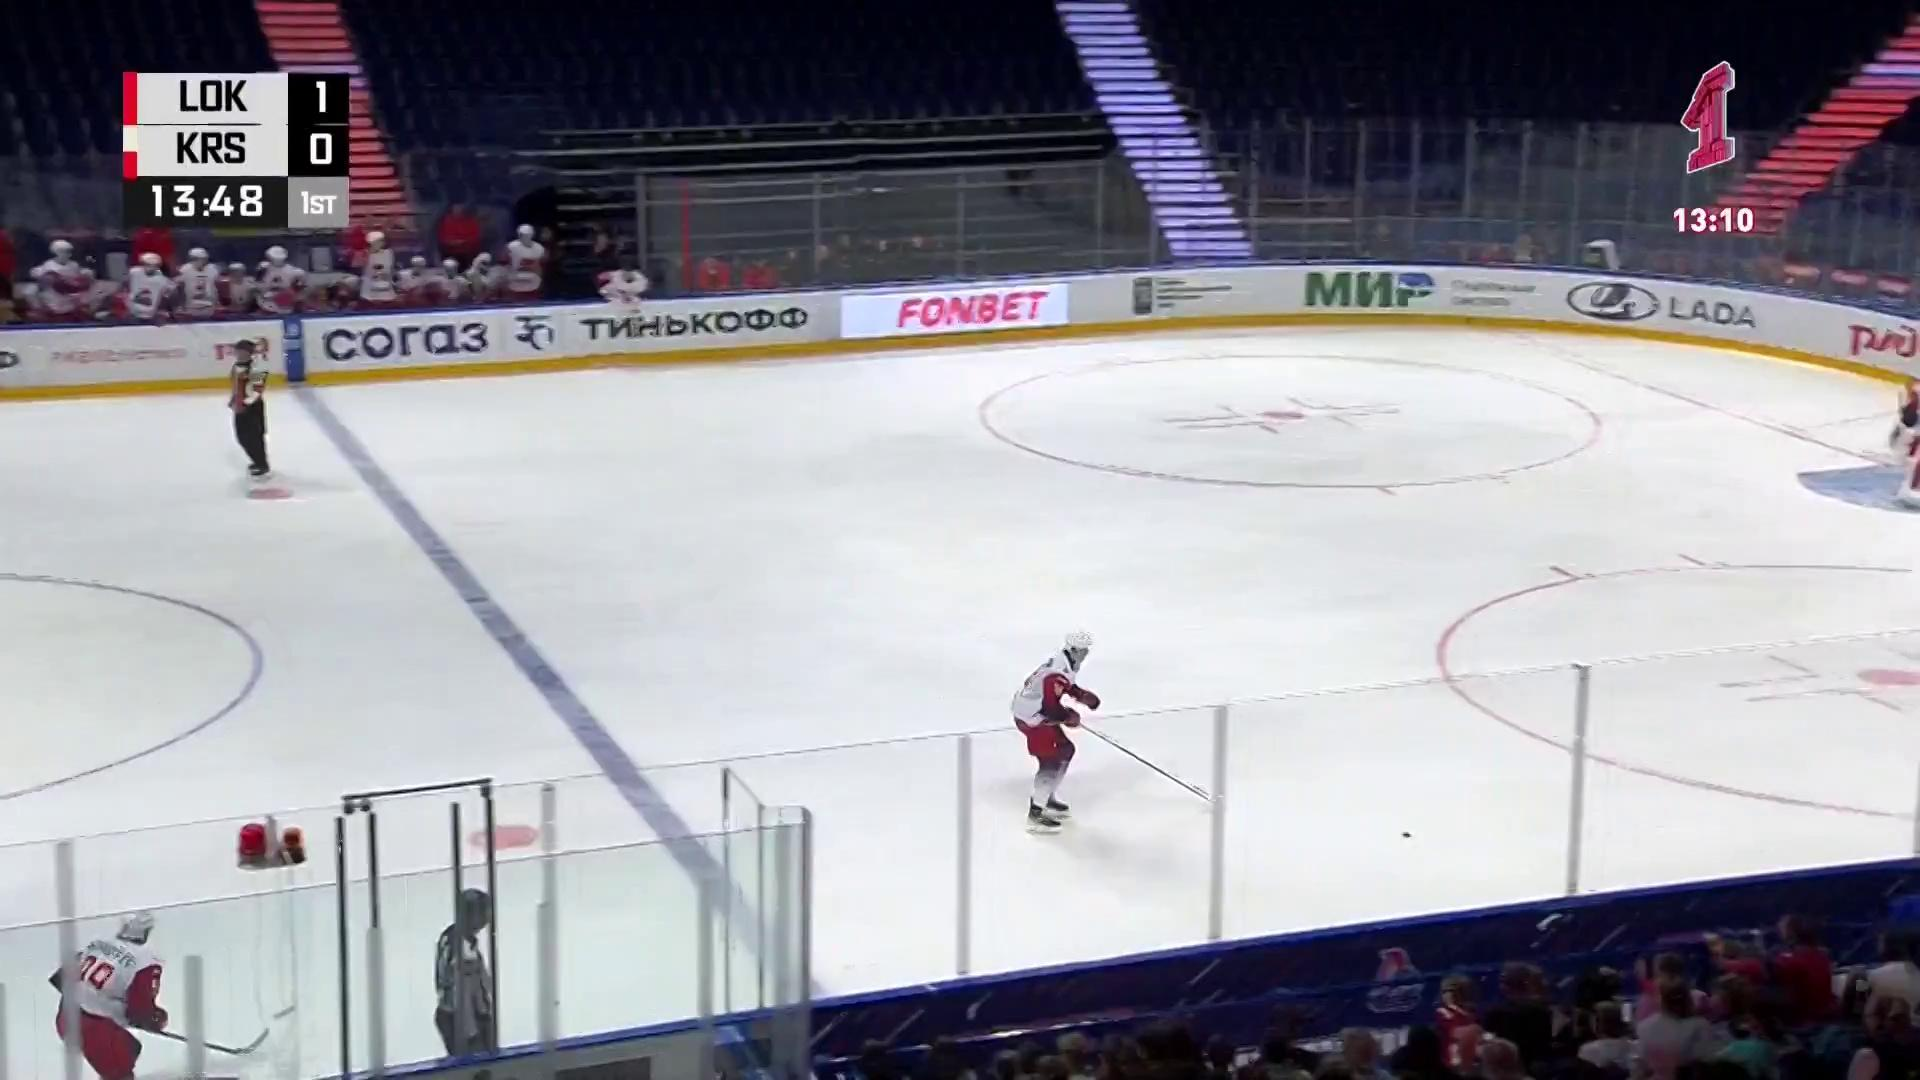ball: (1400, 831, 1412, 839)
